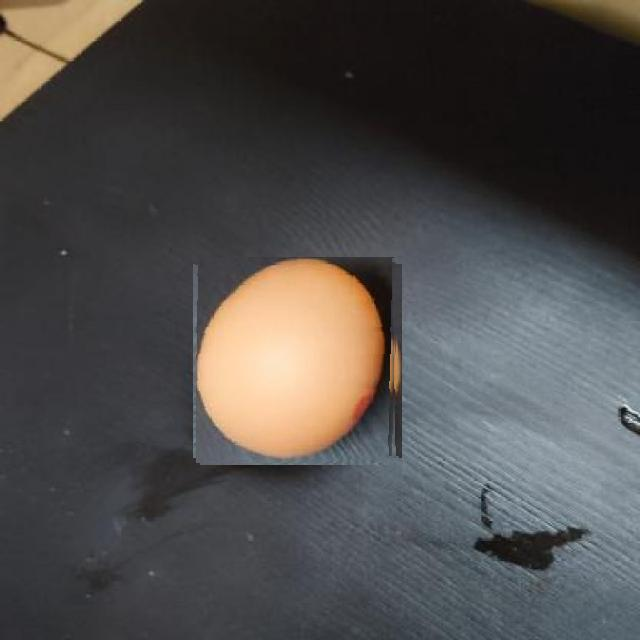biodegradable: (196, 259, 399, 463)
